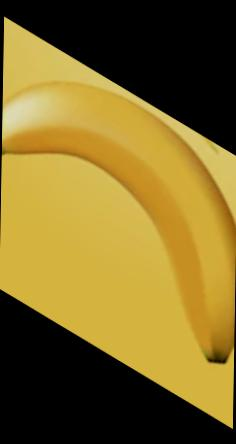Banana Ripe: (0, 32, 236, 421)
